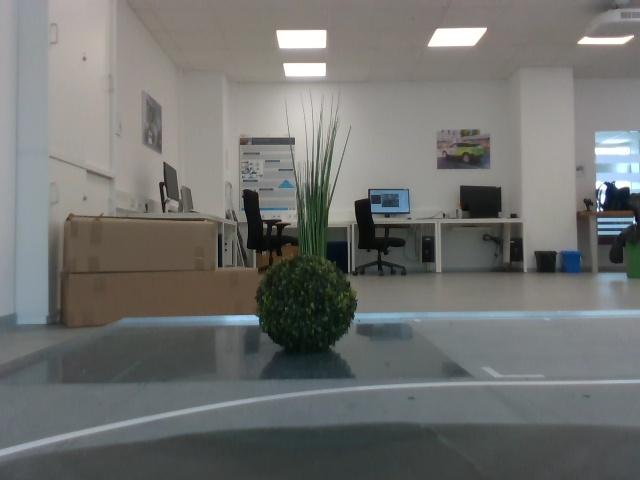potted plant: (279, 96, 357, 253), (256, 252, 361, 362)
